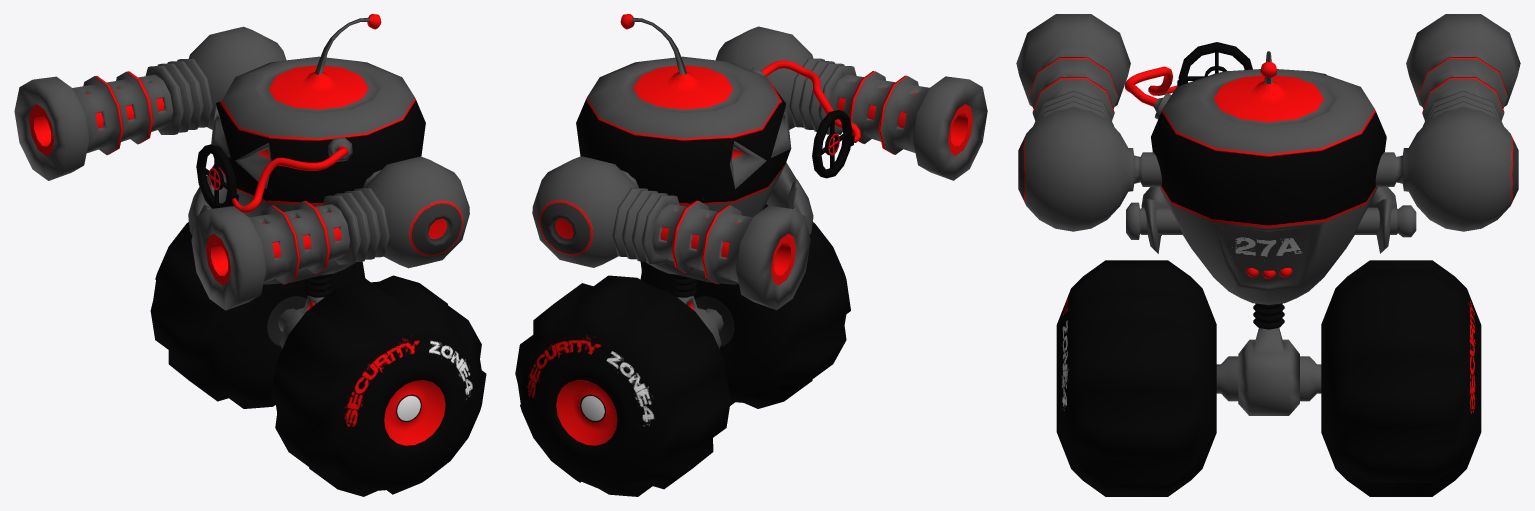
File: robots.fbx
3 renders of one model, left to right at view 1: azimuth 30°, elevation 25°; view 2: azimuth 150°, elevation 25°; view 3: azimuth 270°, elevation 25°, orthographic. The views are drawn at different scales.
Parts seen in each view (by area): view 1: guns, leftWheel, botBody, rightWheel, axle; view 2: guns, rightWheel, botBody, leftWheel, axle; view 3: botBody, guns, rightWheel, leftWheel, axle.
Boxes of the visible parts, x1,y1,x2,y2 form: guns: [14, 26, 469, 310]; leftWheel: [270, 275, 486, 496]; botBody: [188, 14, 425, 297]; rightWheel: [150, 205, 365, 408]; axle: [278, 295, 324, 348]; guns: [532, 26, 987, 310]; rightWheel: [515, 275, 730, 496]; botBody: [576, 14, 860, 297]; leftWheel: [640, 204, 850, 408]; axle: [677, 295, 723, 348]; botBody: [1124, 42, 1416, 329]; guns: [1016, 14, 1520, 231]; rightWheel: [1321, 260, 1481, 496]; leftWheel: [1056, 260, 1216, 496]; axle: [1216, 328, 1321, 415].
Bounding box in the file's own units: 6.82 × 9.48 × 9.53.
Materials: 4 (4 with a texture image).
